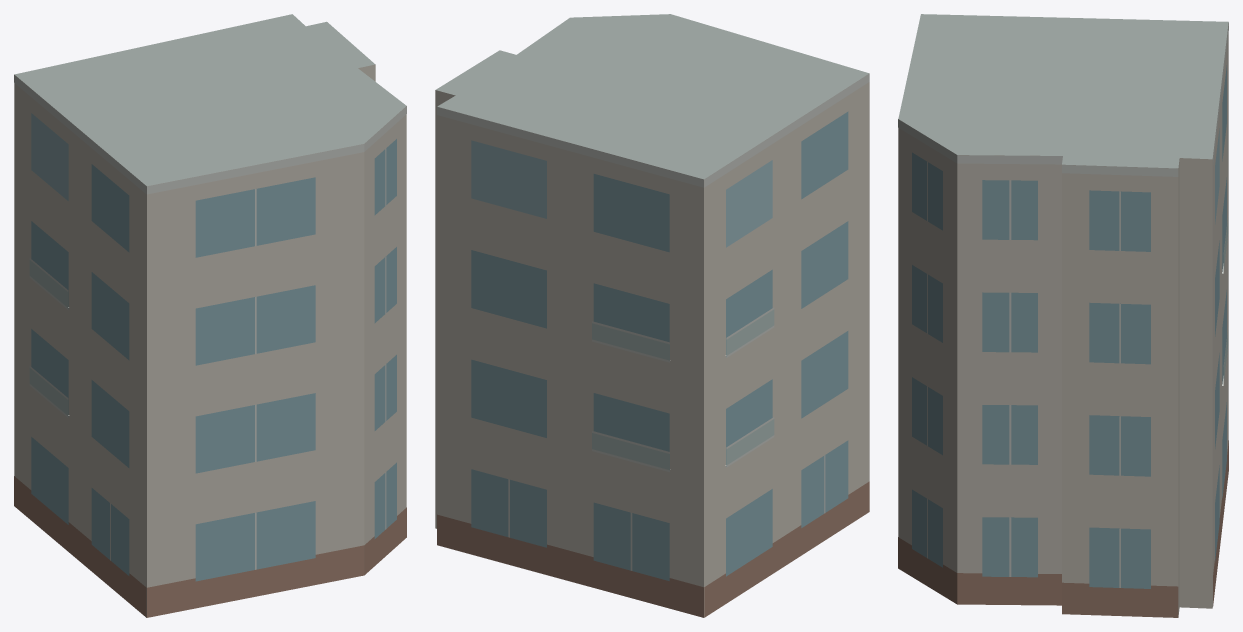
Rendered from survey-upis-32513381.glb.
3 renders of one model, left to right at view 1: azimuth 30°, elevation 25°; view 2: azimuth 150°, elevation 25°; view 3: azimuth 270°, elevation 25°, orthographic. The views are drawn at different scales.
Parts seen in each view (by area): view 1: survey-upis-32513381.tmp; view 2: survey-upis-32513381.tmp; view 3: survey-upis-32513381.tmp.
Boxes of the visible parts, x1,y1,x2,y2 form: survey-upis-32513381.tmp: [14, 14, 406, 617]; survey-upis-32513381.tmp: [435, 14, 869, 617]; survey-upis-32513381.tmp: [898, 14, 1228, 617].
Bounding box in the file's own units: 9.44 × 12.8 × 8.54.
